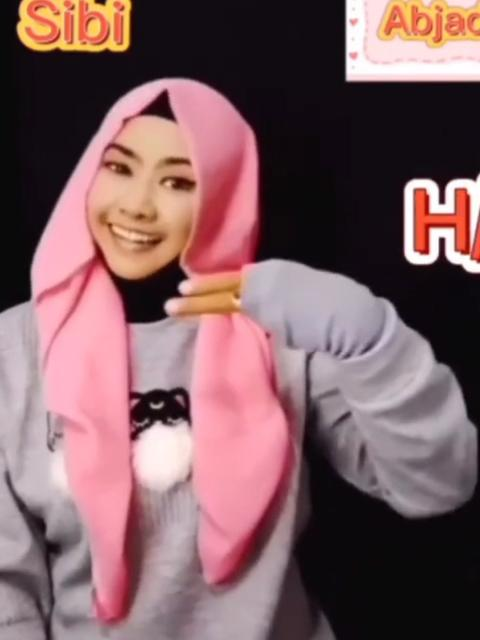H: (166, 260, 372, 356)
